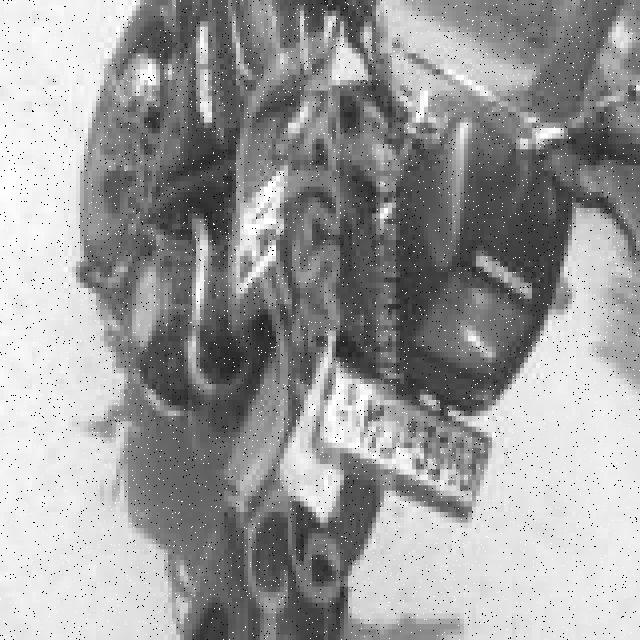motorbike: (69, 0, 625, 640)
